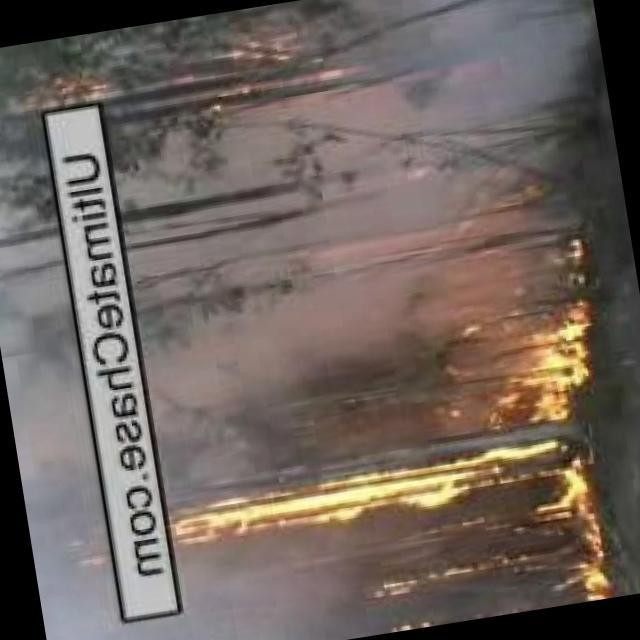Fire: (146, 438, 592, 553), (447, 259, 606, 436), (198, 10, 341, 100), (6, 53, 134, 129), (538, 494, 618, 608), (372, 557, 508, 607)
